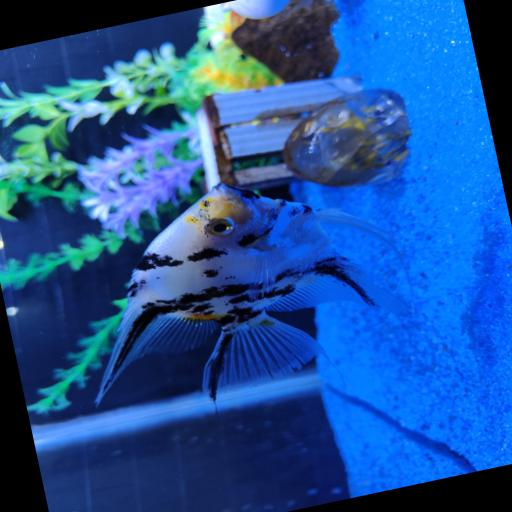Fish: (97, 183, 408, 402)
